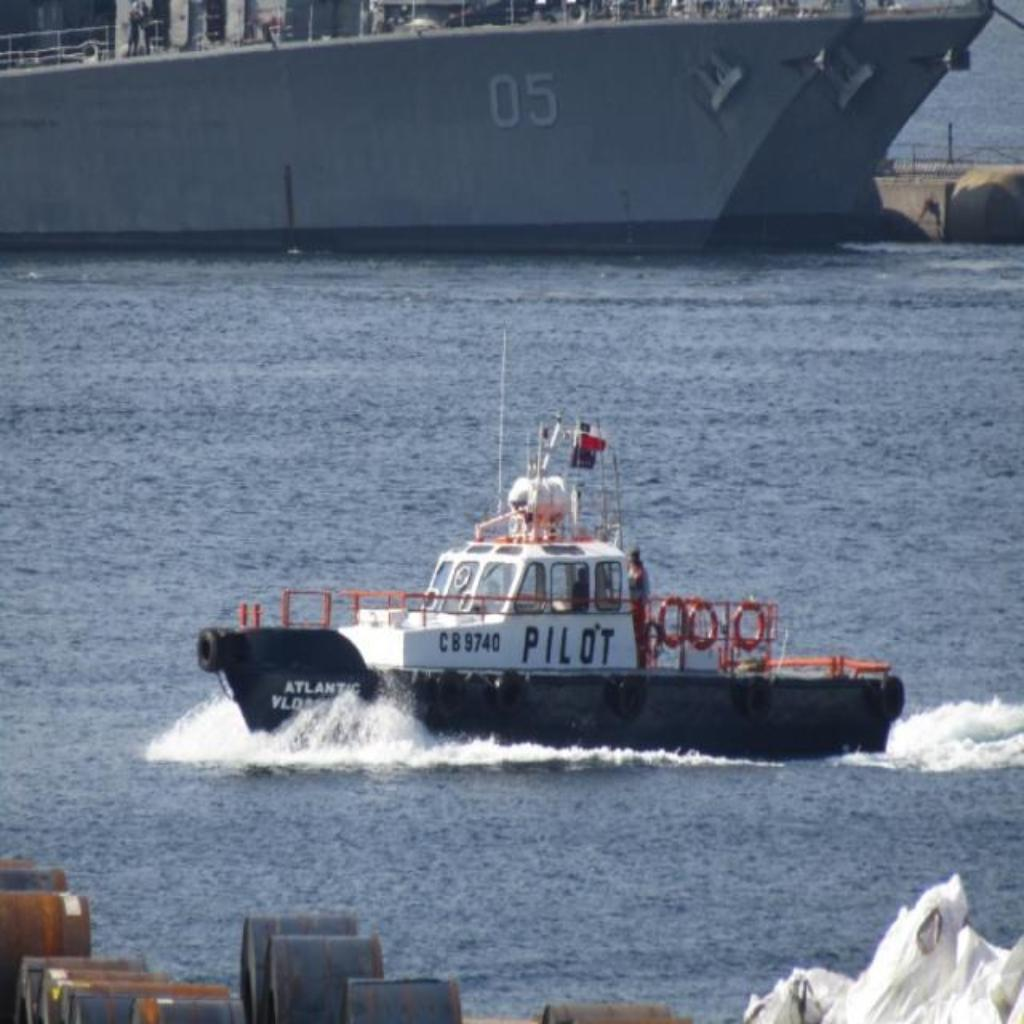Warship: (0, 0, 1024, 278)
